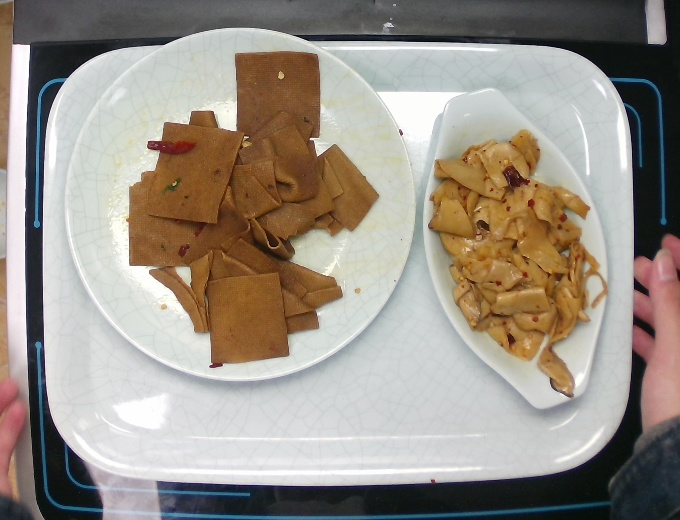JYsf-Da_Yuan_Pan: (54, 27, 425, 386)
JYsf-Yu_Pan: (413, 69, 621, 421)
